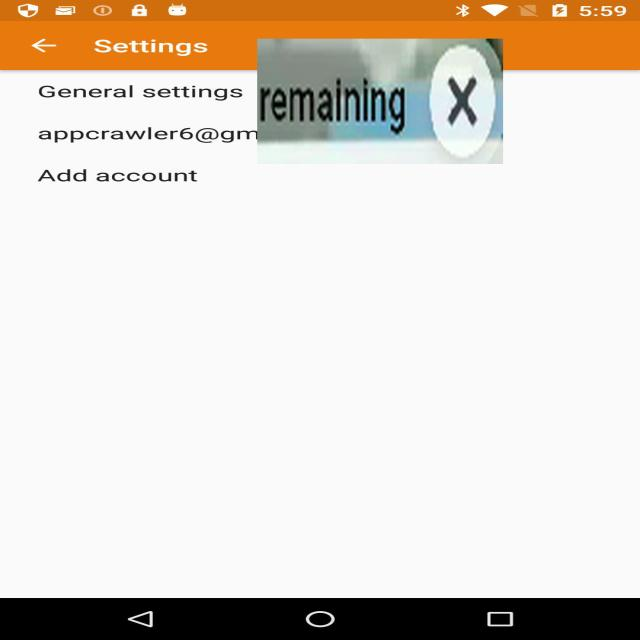misdirection: (257, 39, 503, 164)
